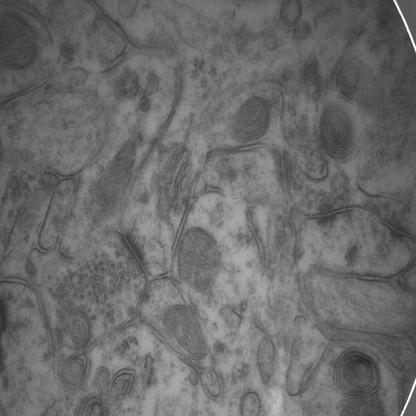mitochondria: (178, 226, 220, 293), (162, 303, 209, 358), (227, 94, 272, 144)
